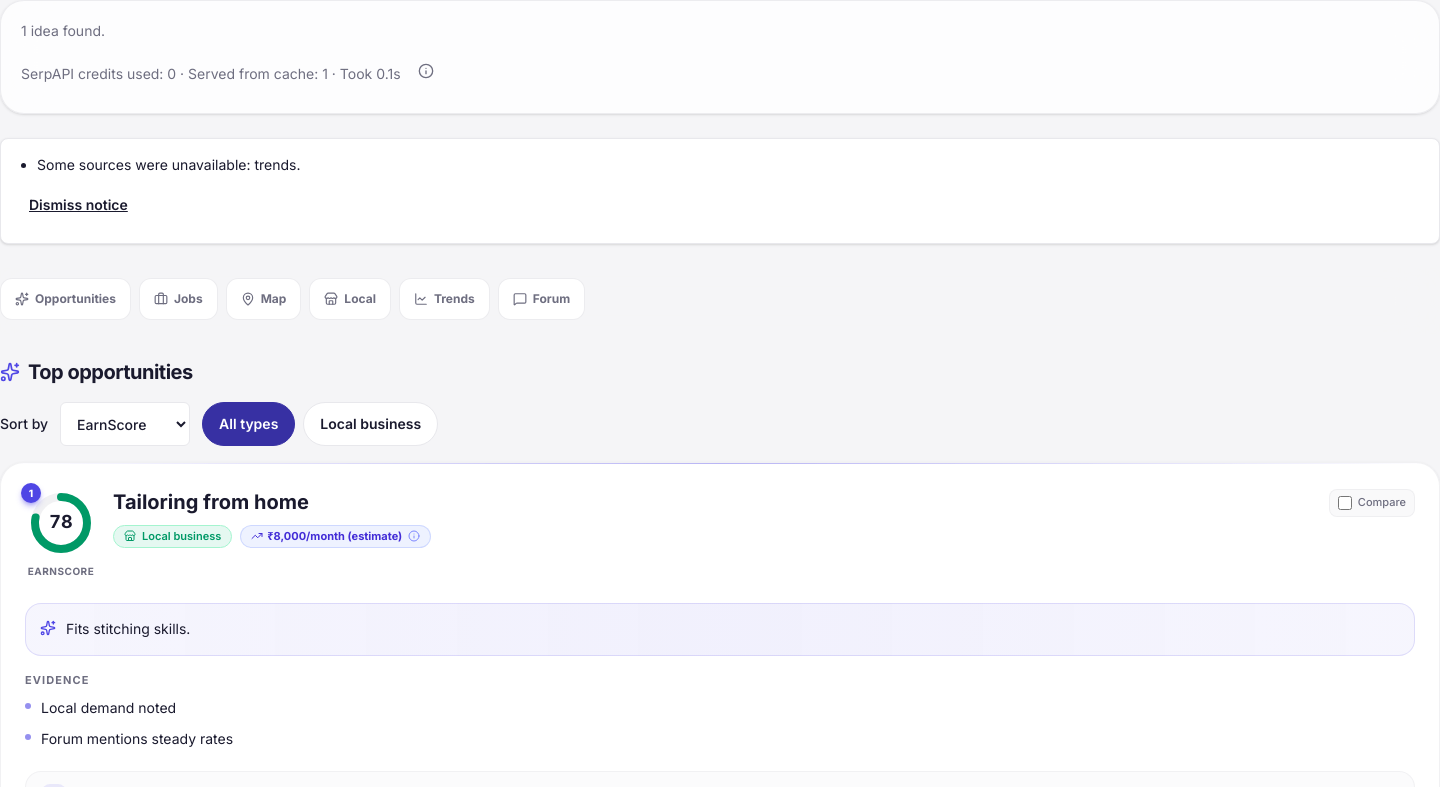
Test: SearchResultsView › dismisses the notice
This screenshot has width=1440, height=787.
Expected: the message "Some sources were unavailable: trends. Dismiss notice" is shown, [0, 138, 1439, 244]
Click the button "Dismiss notice" at (78, 205), box [17, 183, 140, 227]
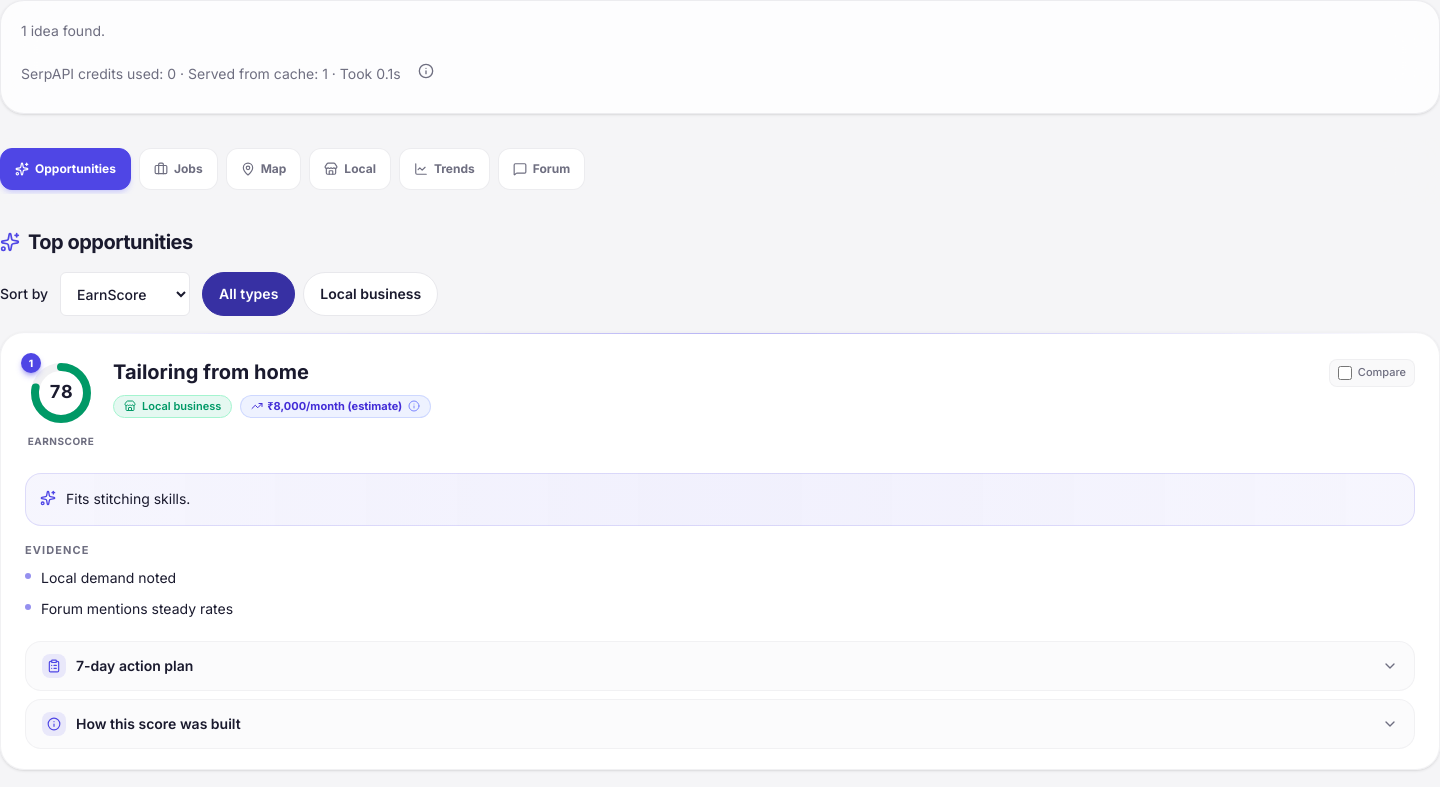
Now the message "Some sources were unavailable: trends. Dismiss notice" is gone
